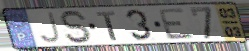3: (125, 8, 154, 42)
7: (188, 5, 215, 41)
E: (157, 7, 196, 41)
J: (38, 11, 62, 45)
S: (58, 9, 95, 45)
T: (94, 10, 118, 42)
